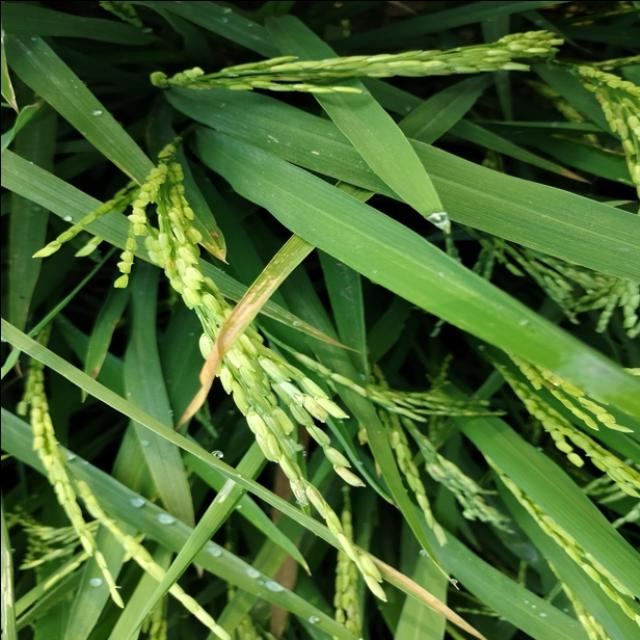healthy: (171, 248, 287, 427), (386, 565, 496, 640)
